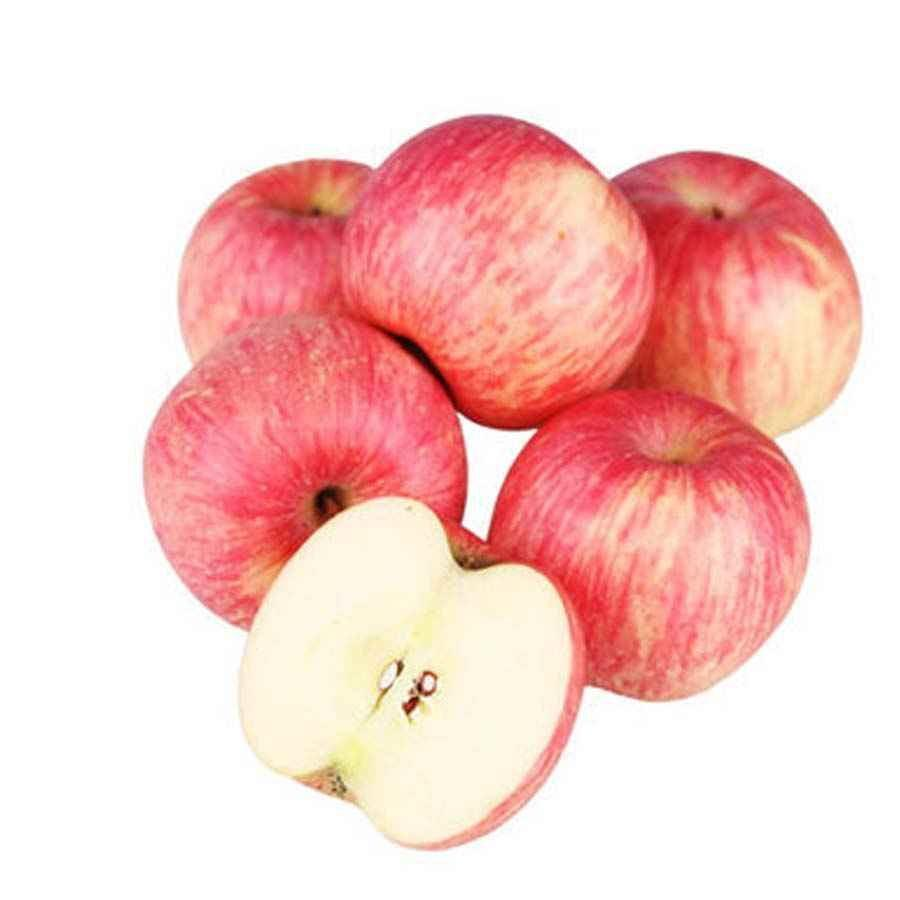apple: (136, 311, 468, 630), (334, 112, 661, 430), (486, 391, 811, 703), (613, 152, 859, 439), (174, 152, 378, 362)
